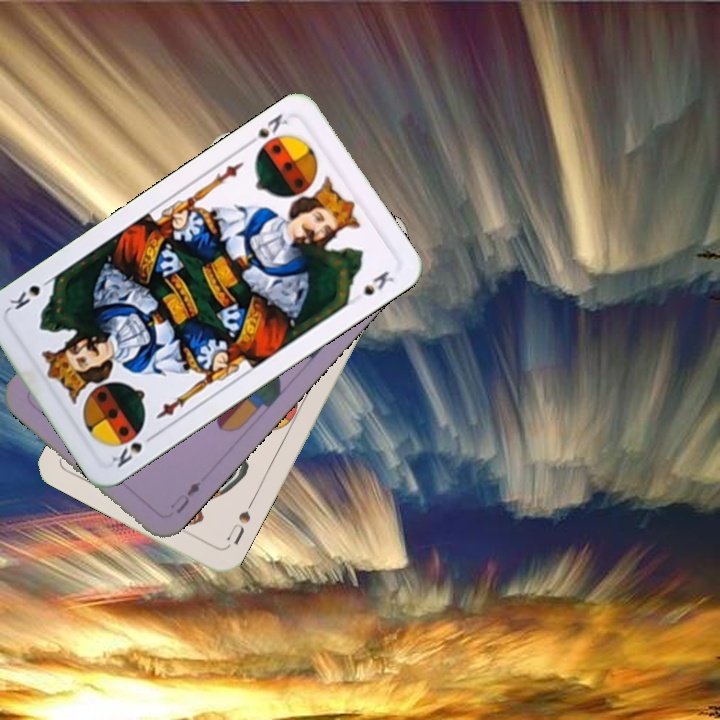EU: (166, 477, 203, 517)
SK: (107, 429, 159, 471), (241, 109, 290, 150)
SU: (222, 496, 256, 547)
